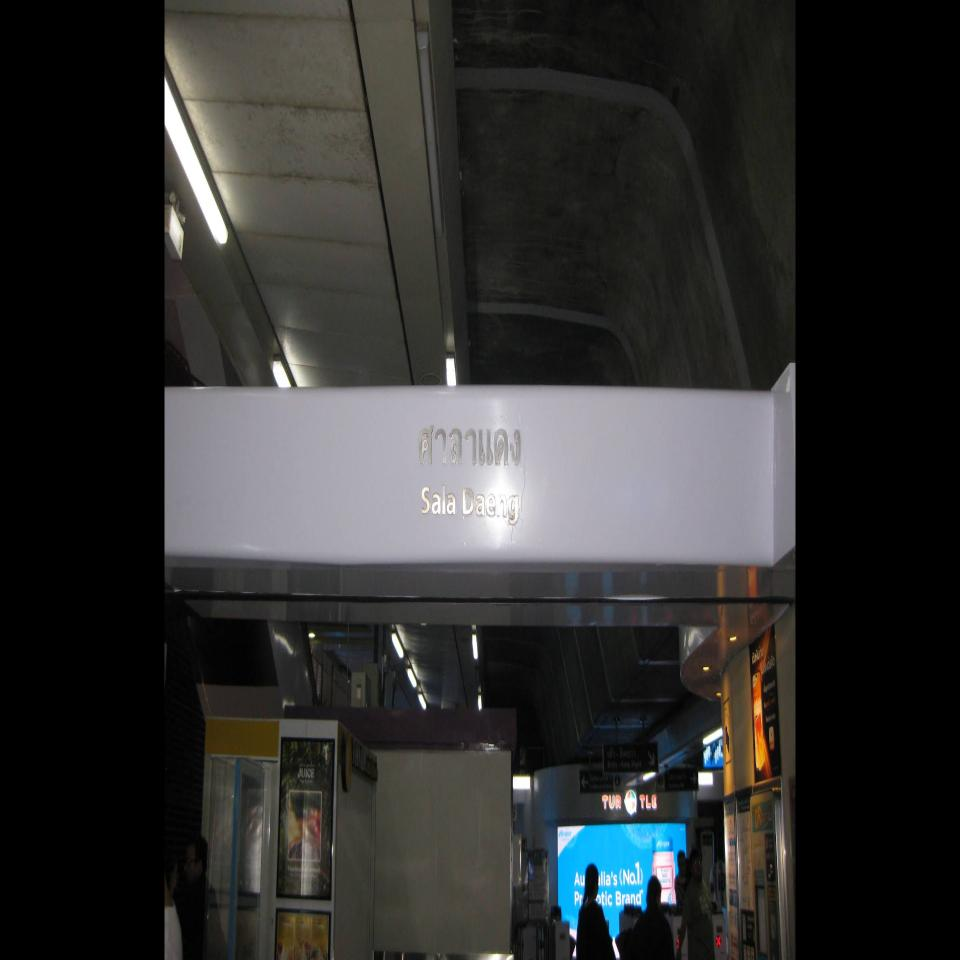signage: (416, 423, 524, 527)
